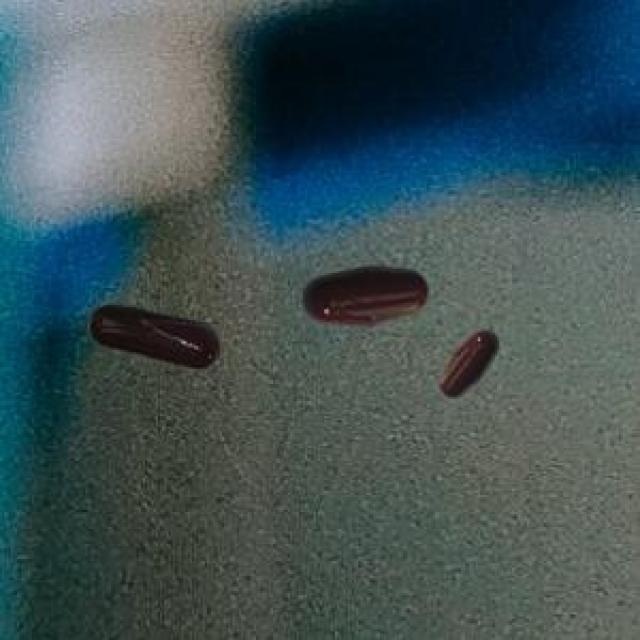DayZinc: (286, 247, 434, 338), (78, 291, 230, 378), (428, 328, 506, 406)
